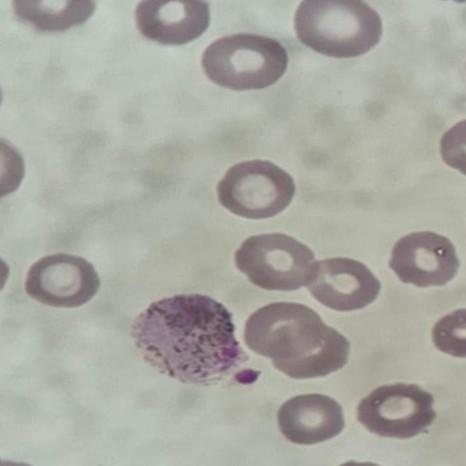Infected: (130, 289, 245, 389)
Uninfected: (213, 157, 296, 220), (295, 0, 382, 60), (200, 32, 289, 90), (235, 232, 318, 292), (302, 254, 382, 313), (25, 253, 104, 311), (358, 385, 438, 440), (390, 229, 461, 289), (248, 302, 325, 357), (272, 324, 349, 379), (276, 392, 347, 445), (132, 0, 210, 44)
